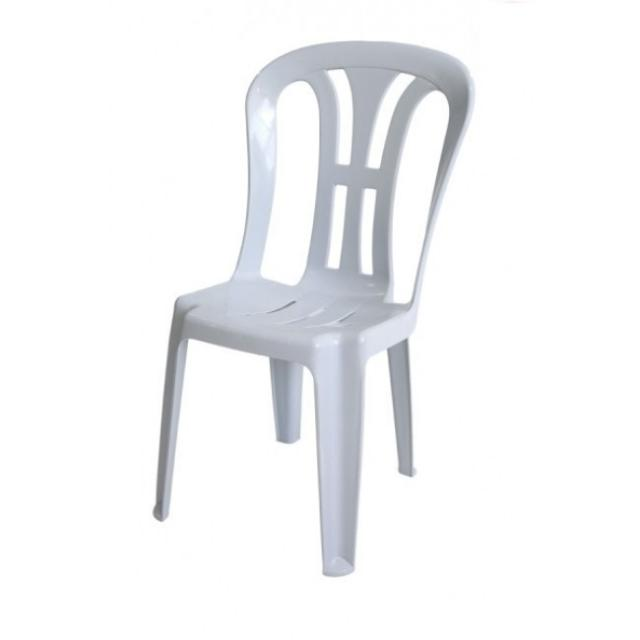Chair: (143, 40, 481, 584)
